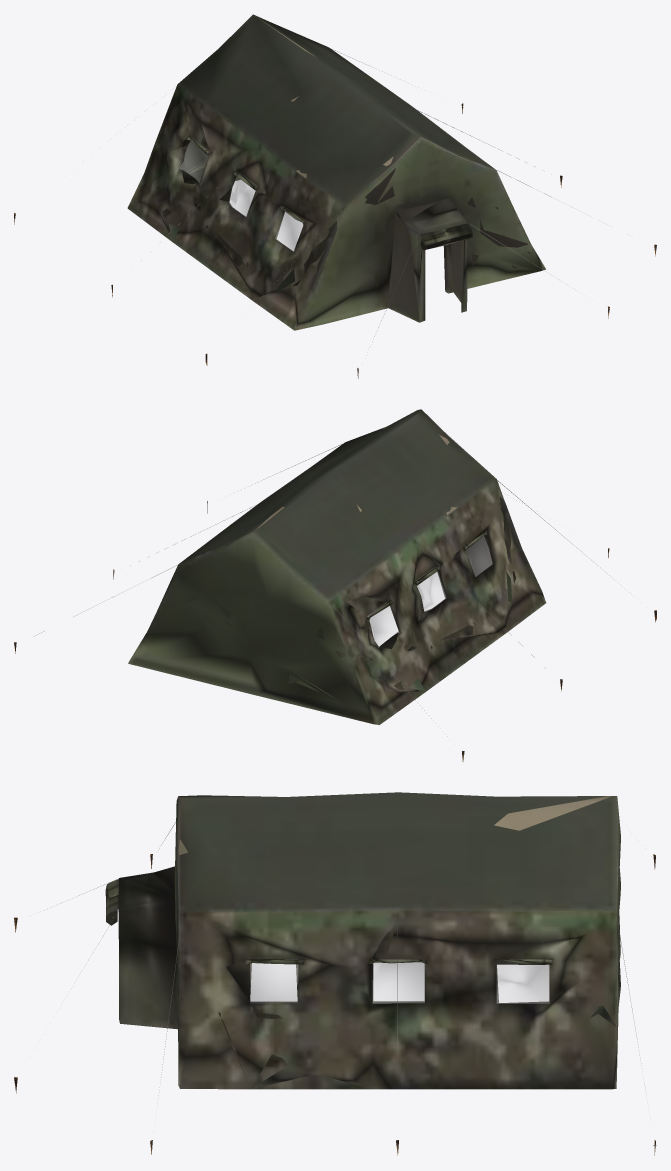
The model's file is tent.lod1.glb.
3 views of the same model, one above another, from view 1: azimuth 30°, elevation 25°; view 2: azimuth 150°, elevation 25°; view 3: azimuth 270°, elevation 25° (orthographic). The views are drawn at different scales.
Visible parts, largest first — view 1: Military_tent_01_0, Military_tent_Glass_0; view 2: Military_tent_01_0, Military_tent_Glass_0; view 3: Military_tent_01_0, Military_tent_Glass_0.
Boxes of the visible parts, box(x1,y1,x2,y2) form: Military_tent_01_0: box(14, 14, 656, 378); Military_tent_Glass_0: box(180, 137, 302, 251); Military_tent_01_0: box(14, 409, 656, 761); Military_tent_Glass_0: box(367, 535, 492, 647); Military_tent_01_0: box(14, 792, 656, 1155); Military_tent_Glass_0: box(250, 959, 549, 1003).
Size of the model in its own units: 11.13 by 4 by 10.52.
Materials: 2 (1 with a texture image).
